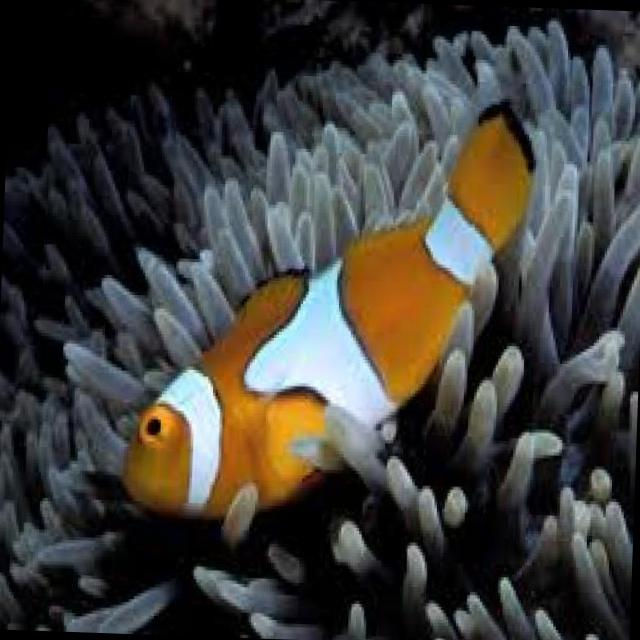ClownFish: (120, 87, 540, 533)
